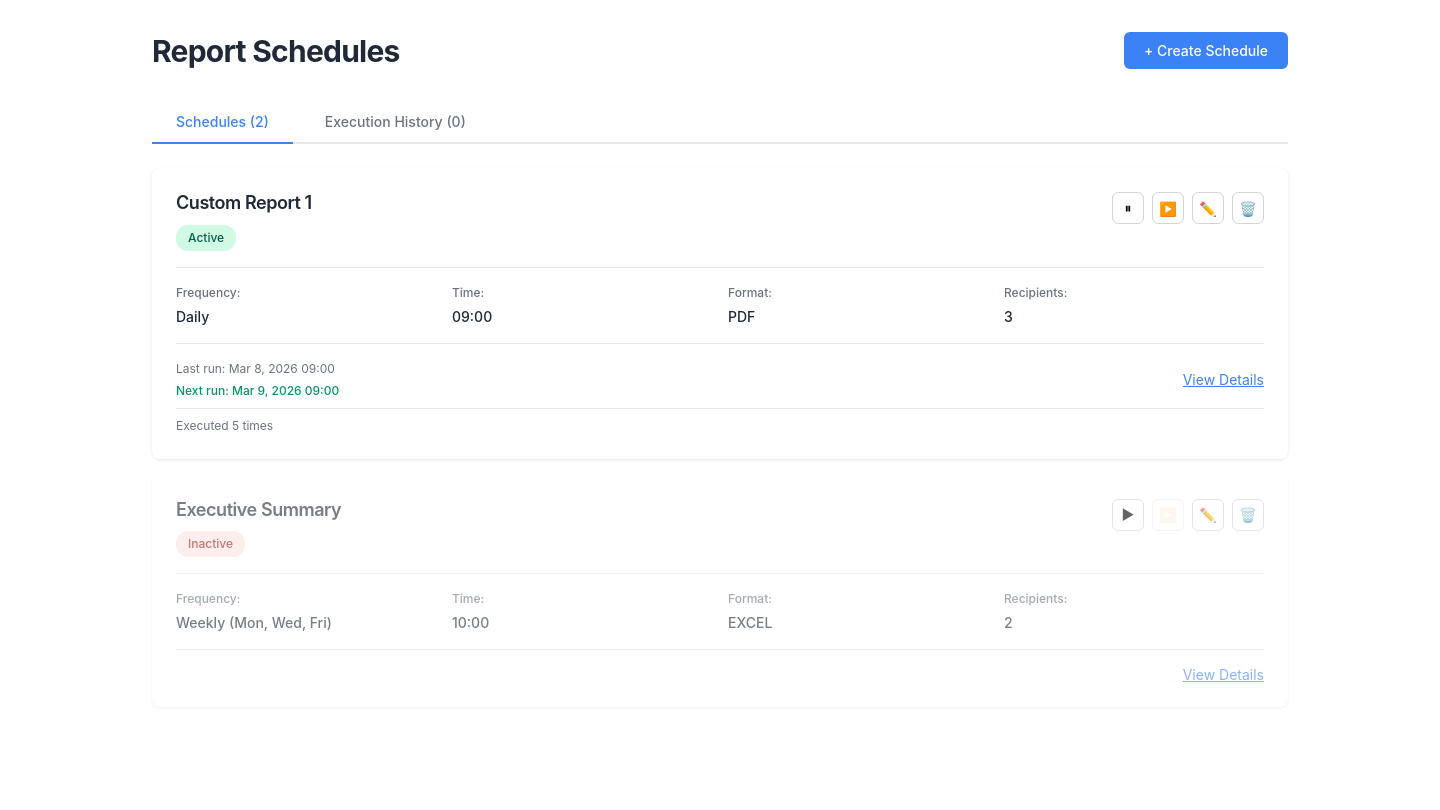
Test: ReportSchedules › Schedules List › should close details modal when clicking close button
The image size is (1440, 810).
Click the button "View Details" in the row of "Mar 9, 2026 09:00".
click(1223, 380)  # box [1183,371,1264,388]
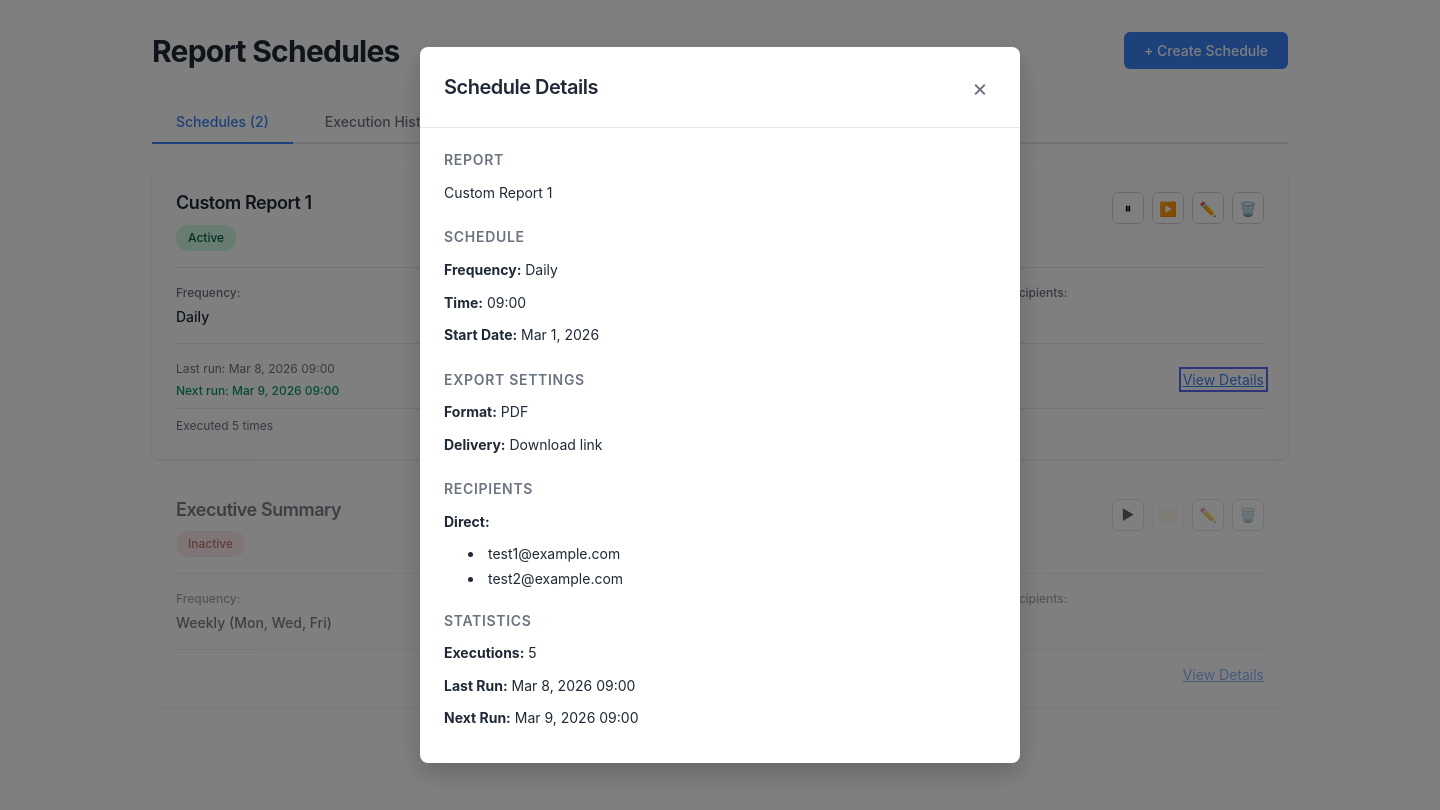
Click the button "×".
click(980, 87)  # box [964,71,996,103]
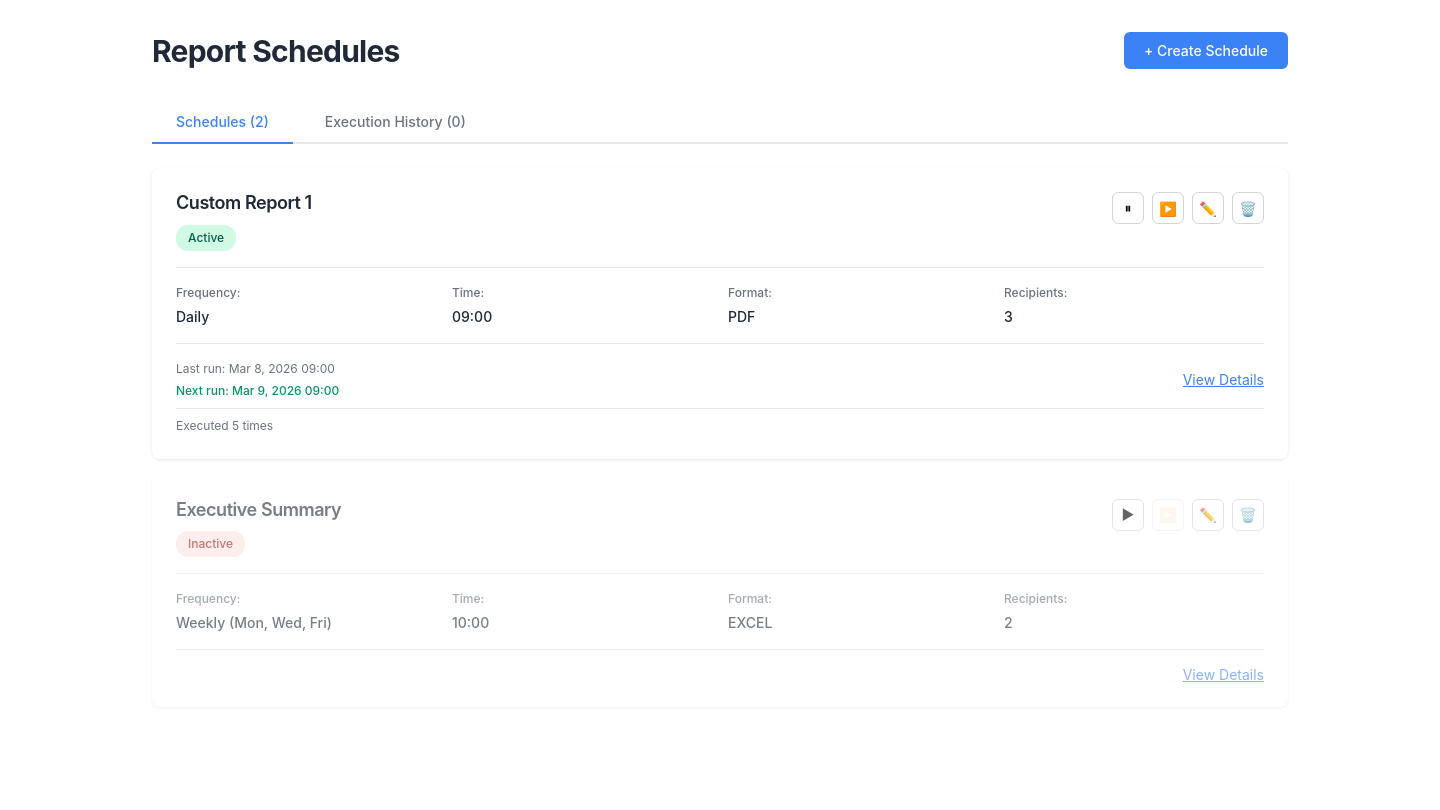
expect the heading "Schedule Details" is gone: met
